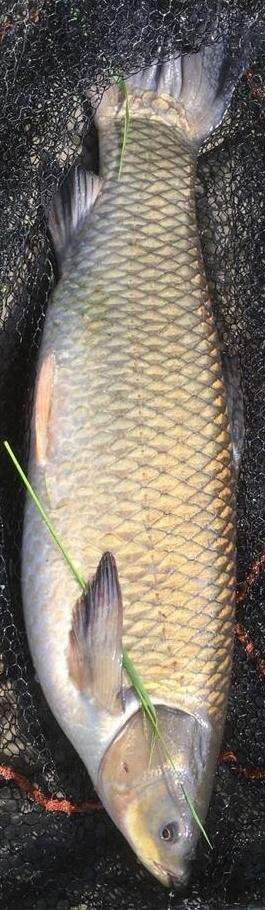Grass Carp: (0, 0, 258, 885)
